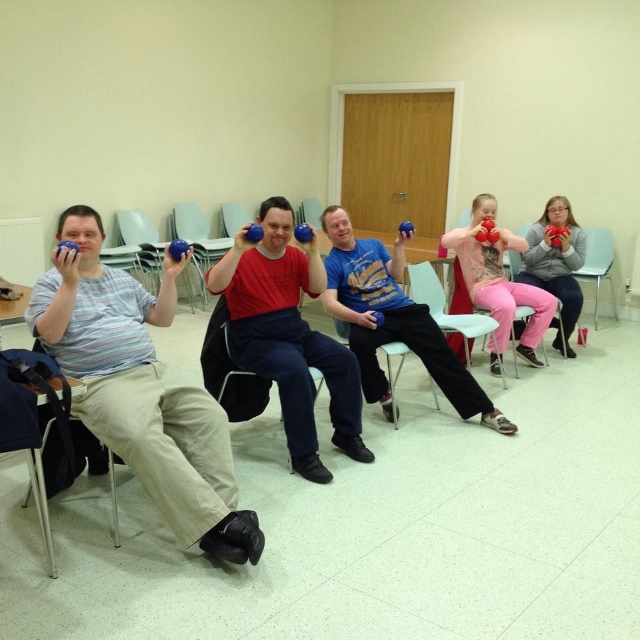human: (64, 211, 105, 270), (260, 204, 297, 255), (328, 211, 360, 246), (544, 195, 573, 226), (476, 194, 499, 231)
